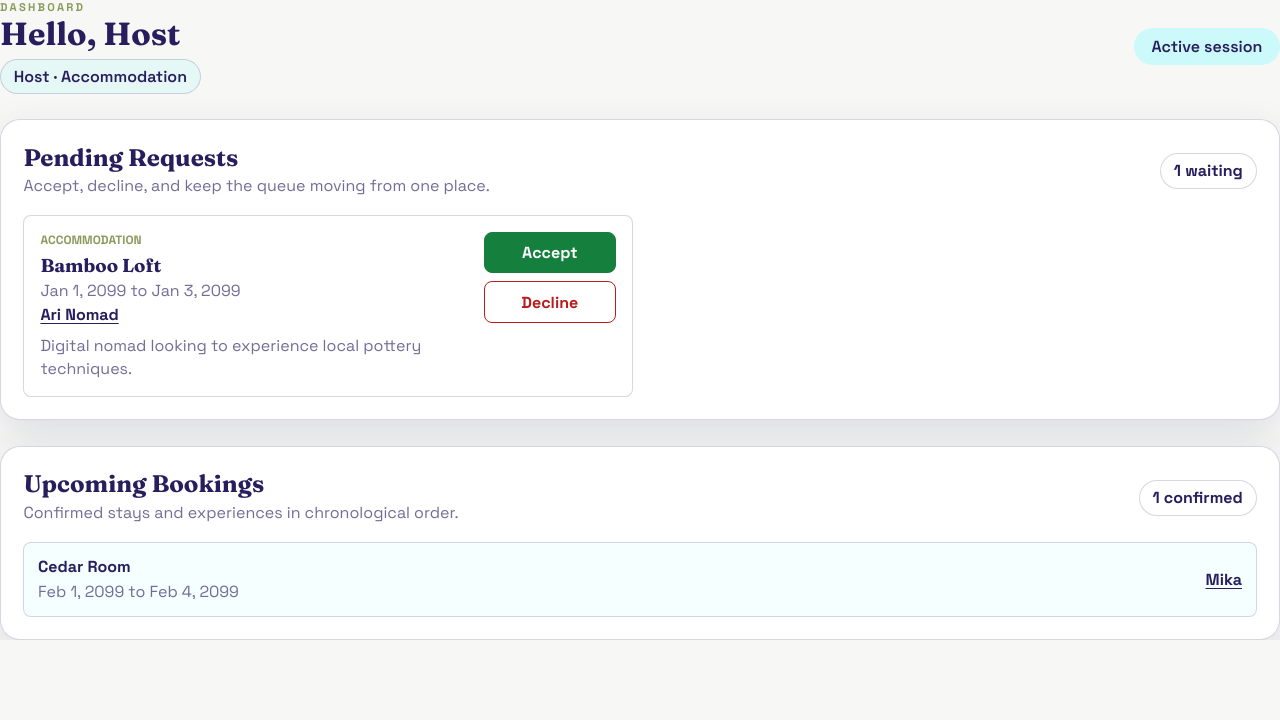
DashboardPage › shows pending requests with accept, decline reasons, agenda, and profile drawer
Expected: the heading "Pending Requests" is shown, [23,143,238,172]
Expected: the heading "Bamboo Loft" is shown, [40,254,161,276]
Step 1. Click the button "Ari Nomad" → (80,314), box [40,304,119,325]
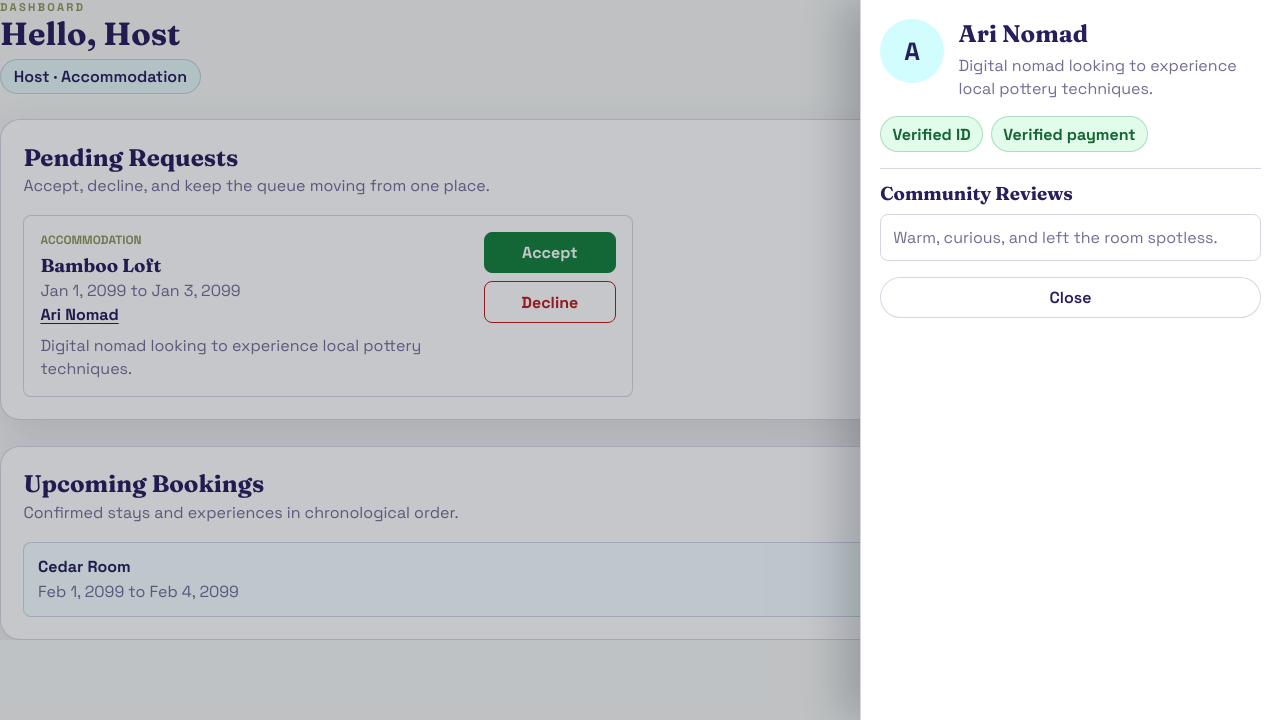
Expected: the text "Digital nomad looking to experience local pottery" below "Jan 1, 2099 to Jan 3, 2099" is shown, [40,335,421,379]
Result: the element named "nomad profile drawer" is shown
Result: the text "Verified ID" is shown at [880,116,983,152]
Step 2. Click the button "Close" → (1070,298), box [880,277,1261,318]
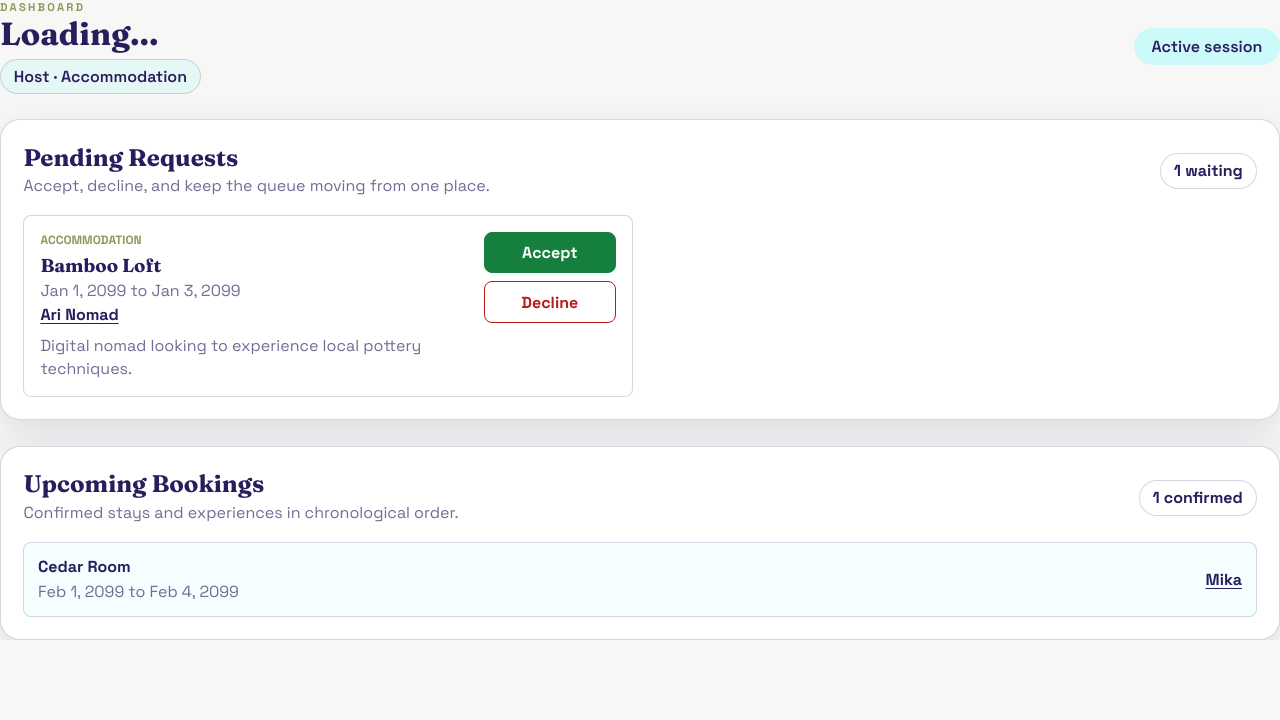
Step 3. Click the button "Decline" → (550,302), box [484,282,616,323]
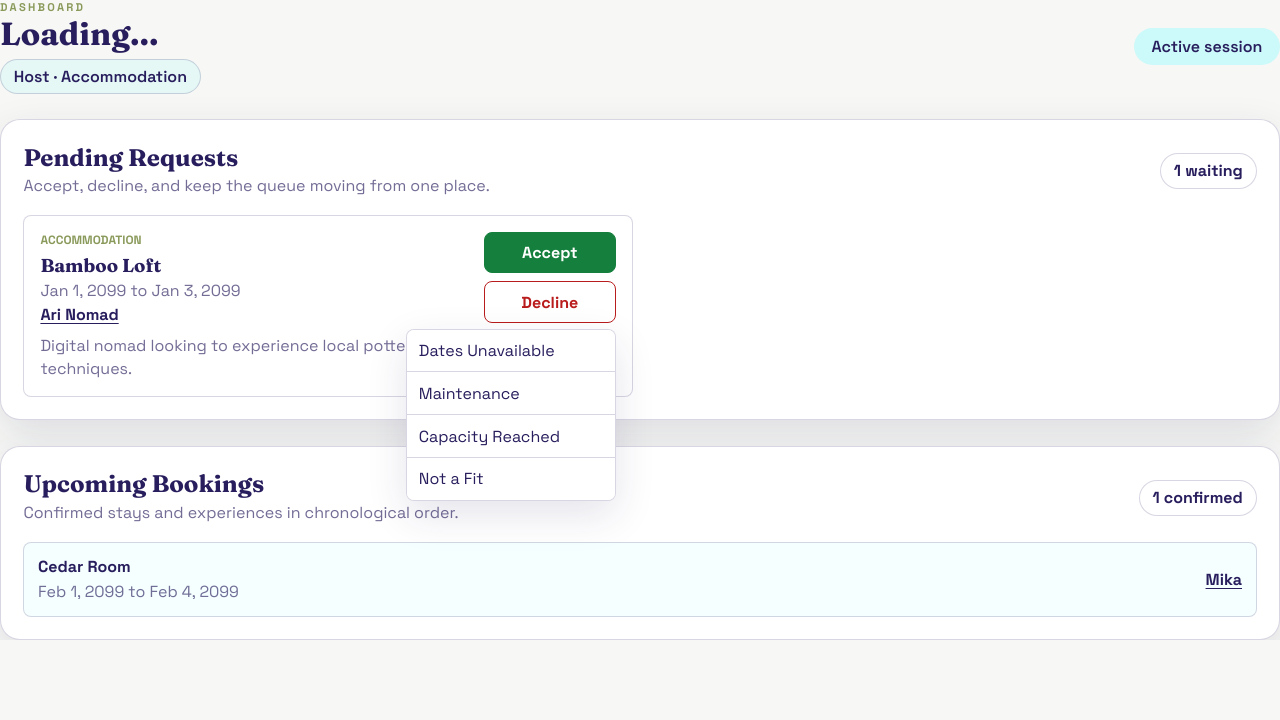
Step 4. Click the button "Maintenance" → (511,394), box [407,372,615,415]
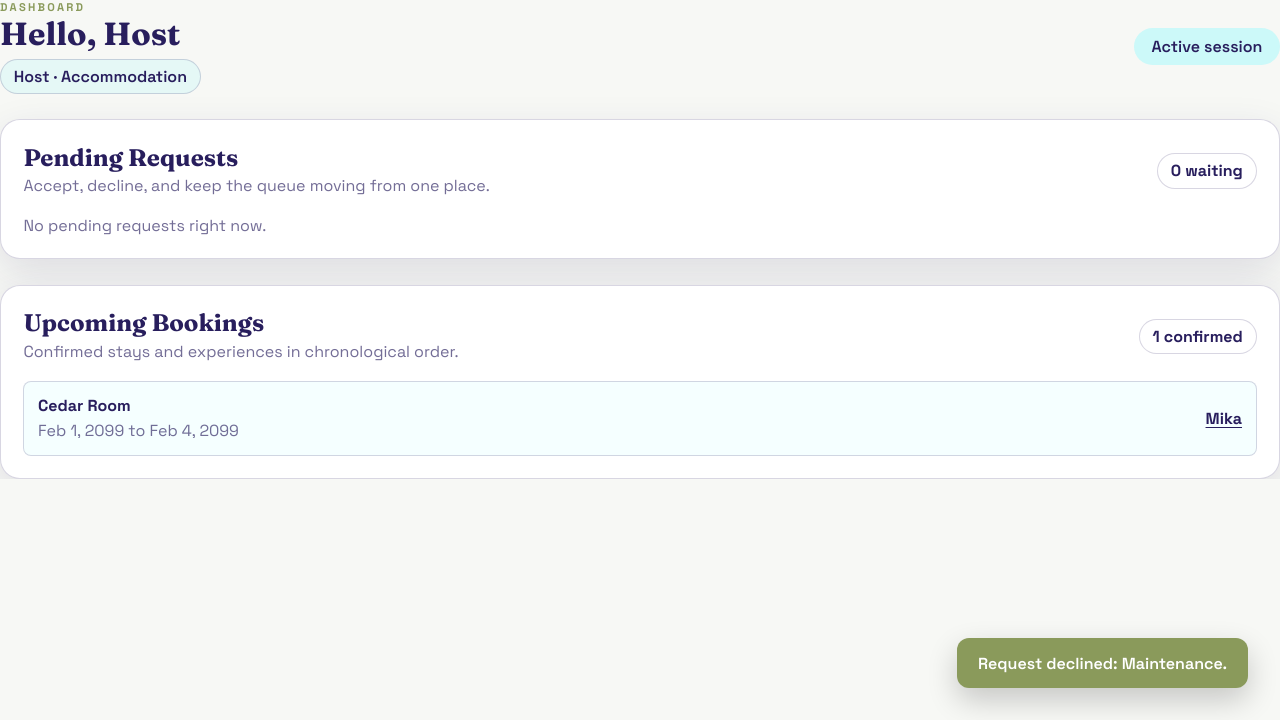
Result: the text "Request declined: Maintenance." is shown at [957,638,1248,688]
